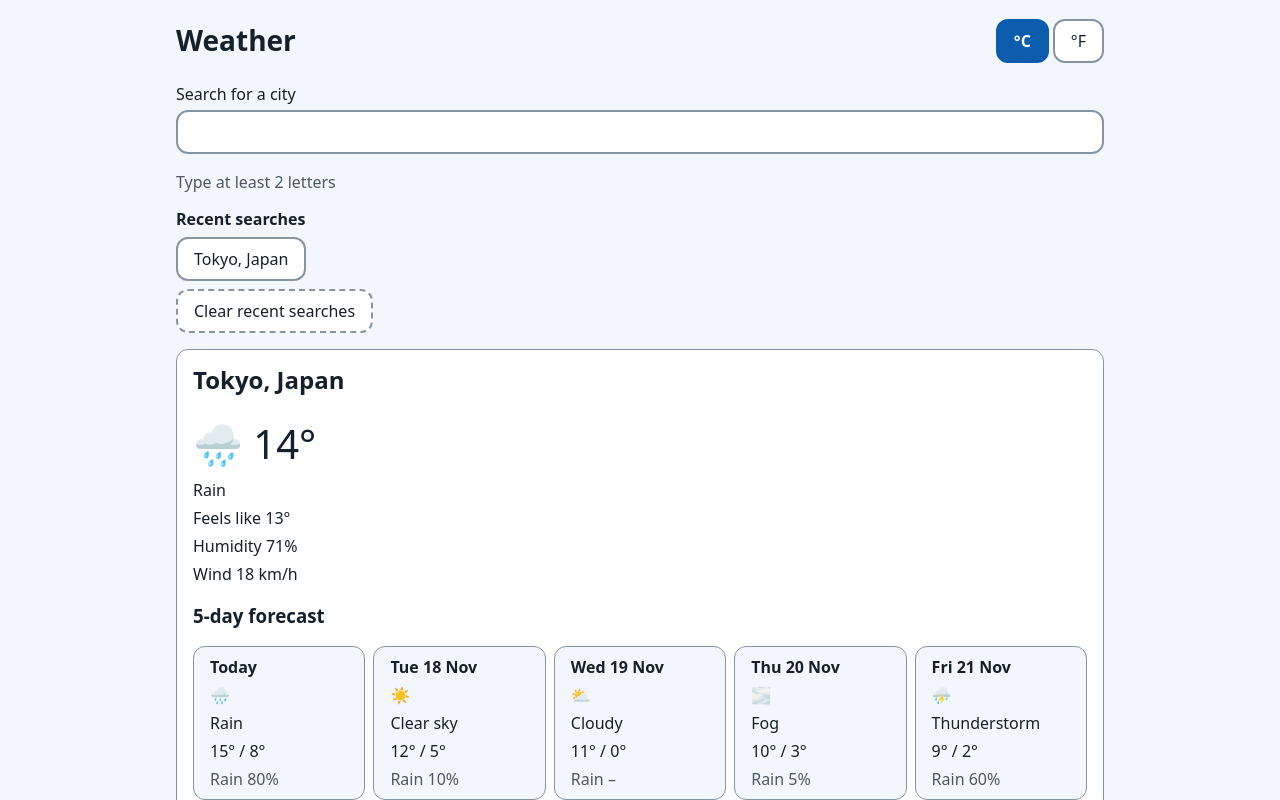
Test: recent searches › clears the list and the saved value
Click the button "Clear recent searches".
click(275, 311)  # box [176, 289, 373, 333]
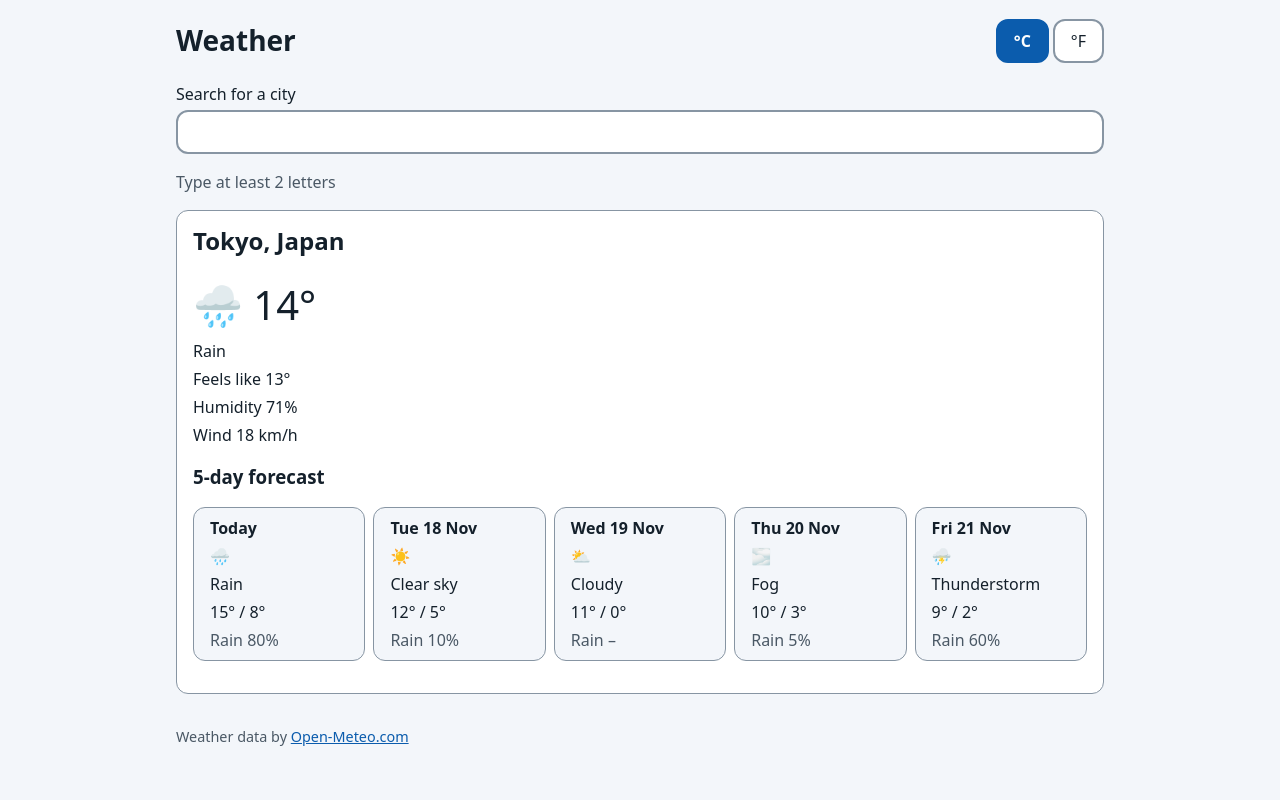
Result: the heading "Recent searches" is gone
